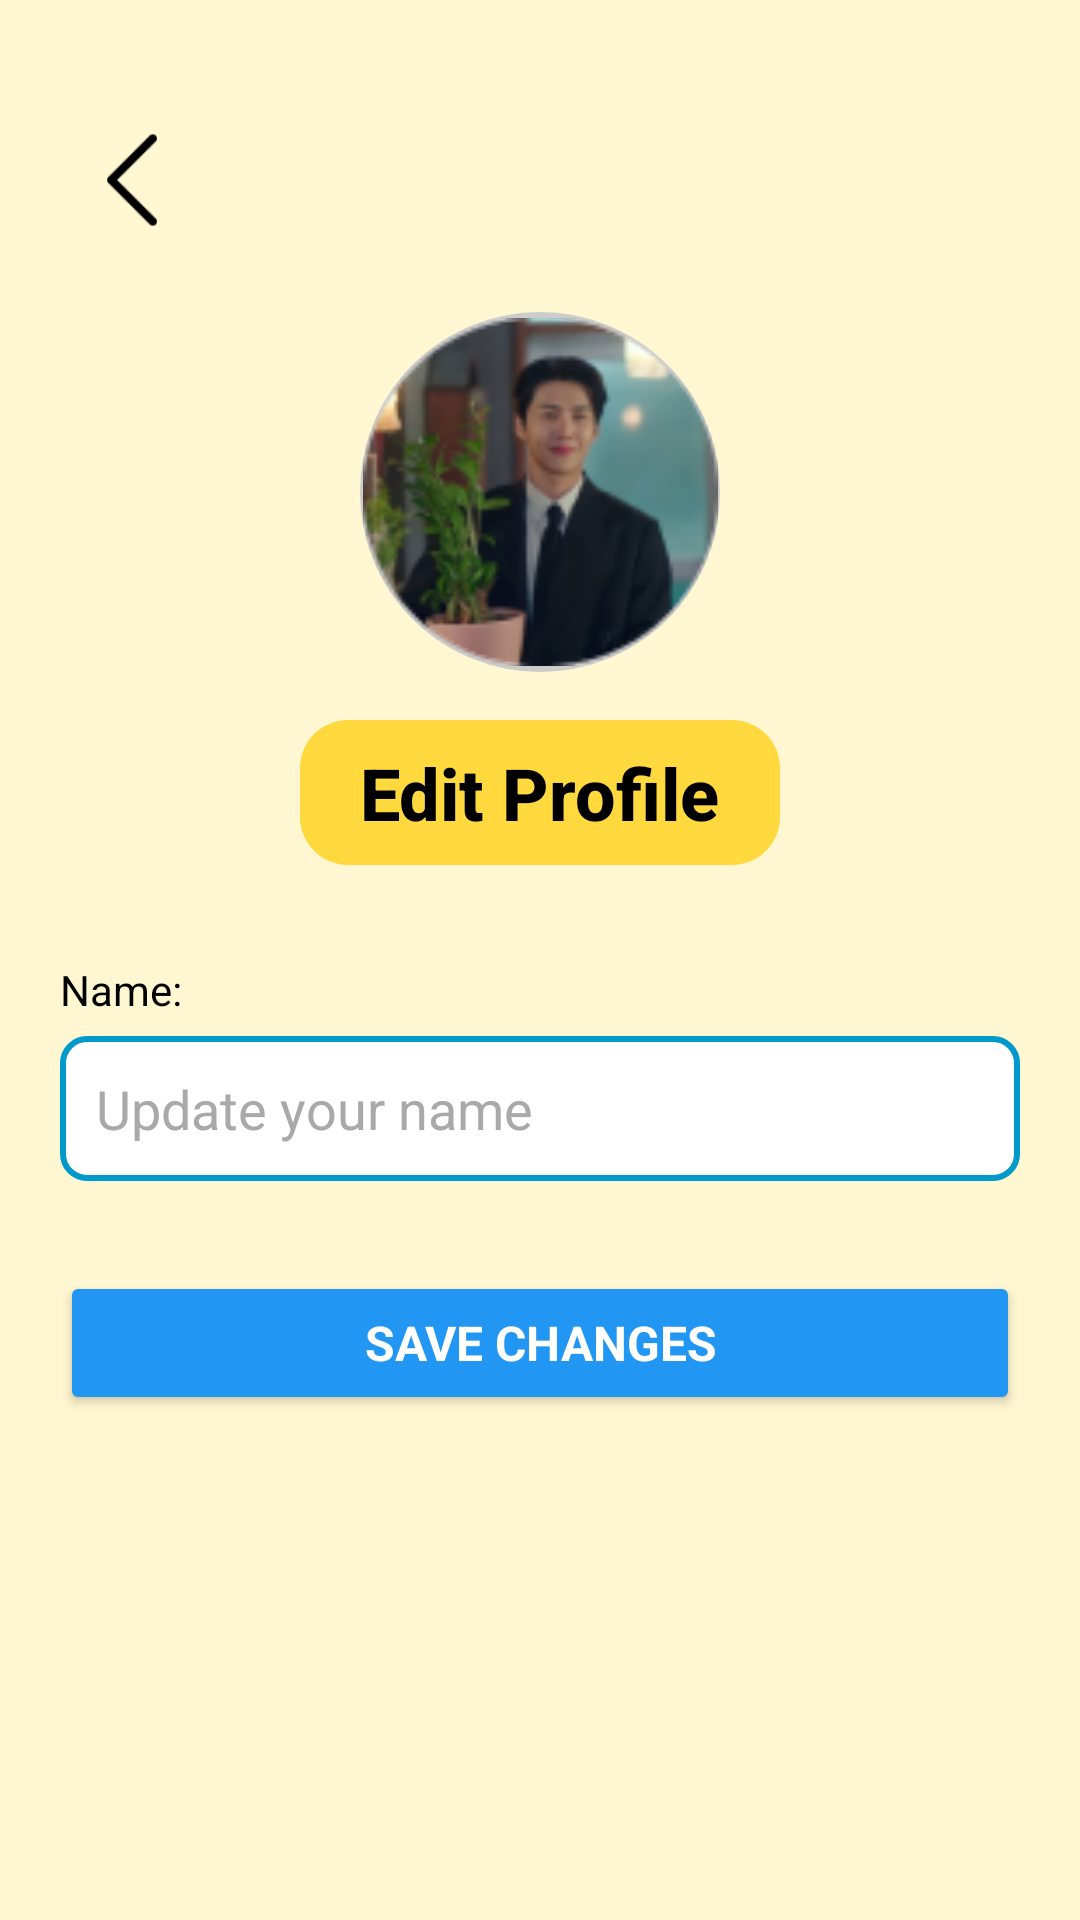

Icon click points for this 1080 x 1920 phone screenshot, format (x,y):
back: (132,180)
